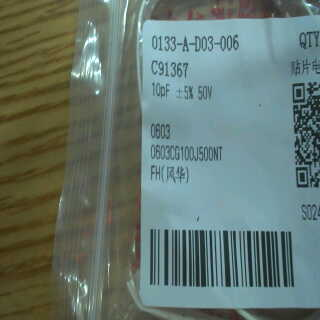10pF: (151, 78, 174, 102)
